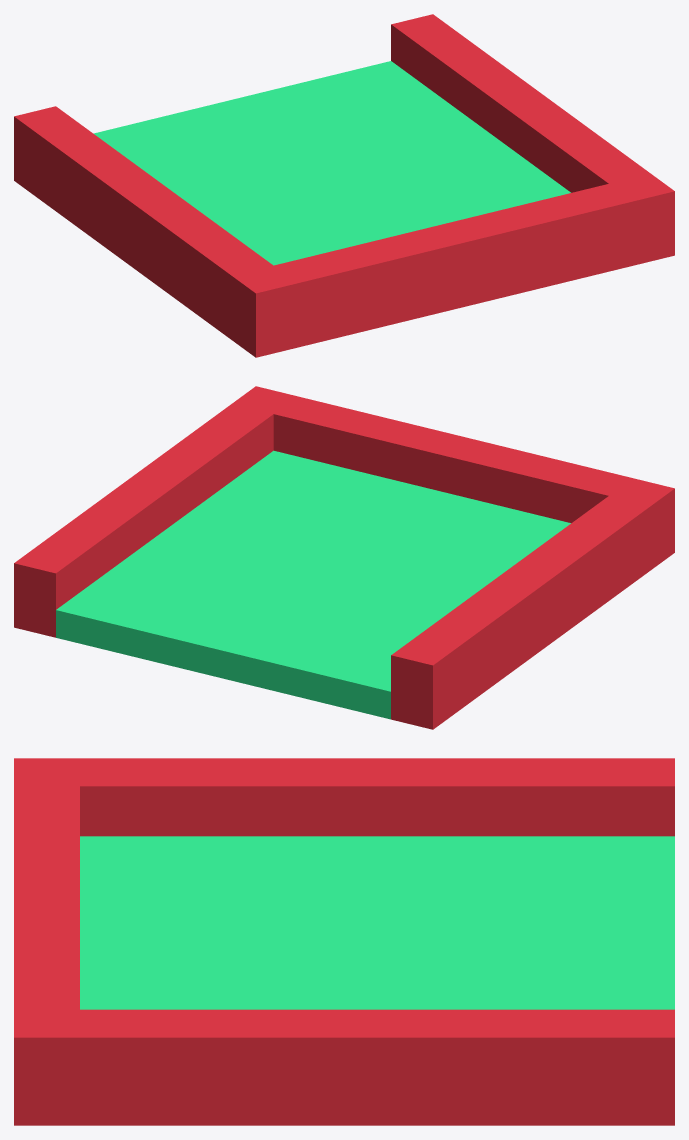
The model's file is end.fbx.
The picture shows the model from 3 angles, top to bottom: view 1: azimuth 30°, elevation 25°; view 2: azimuth 150°, elevation 25°; view 3: azimuth 270°, elevation 25°; orthographic projection. The views are drawn at different scales.
Parts seen in each view (by area): view 1: end; view 2: end; view 3: end.
Part boxes in pixels (left/top/right/bottom): end: left=14, top=14, right=674, bottom=357; end: left=14, top=386, right=674, bottom=729; end: left=14, top=758, right=674, bottom=1125.
Bounding box in the file's own units: 10 × 1.47 × 10.
